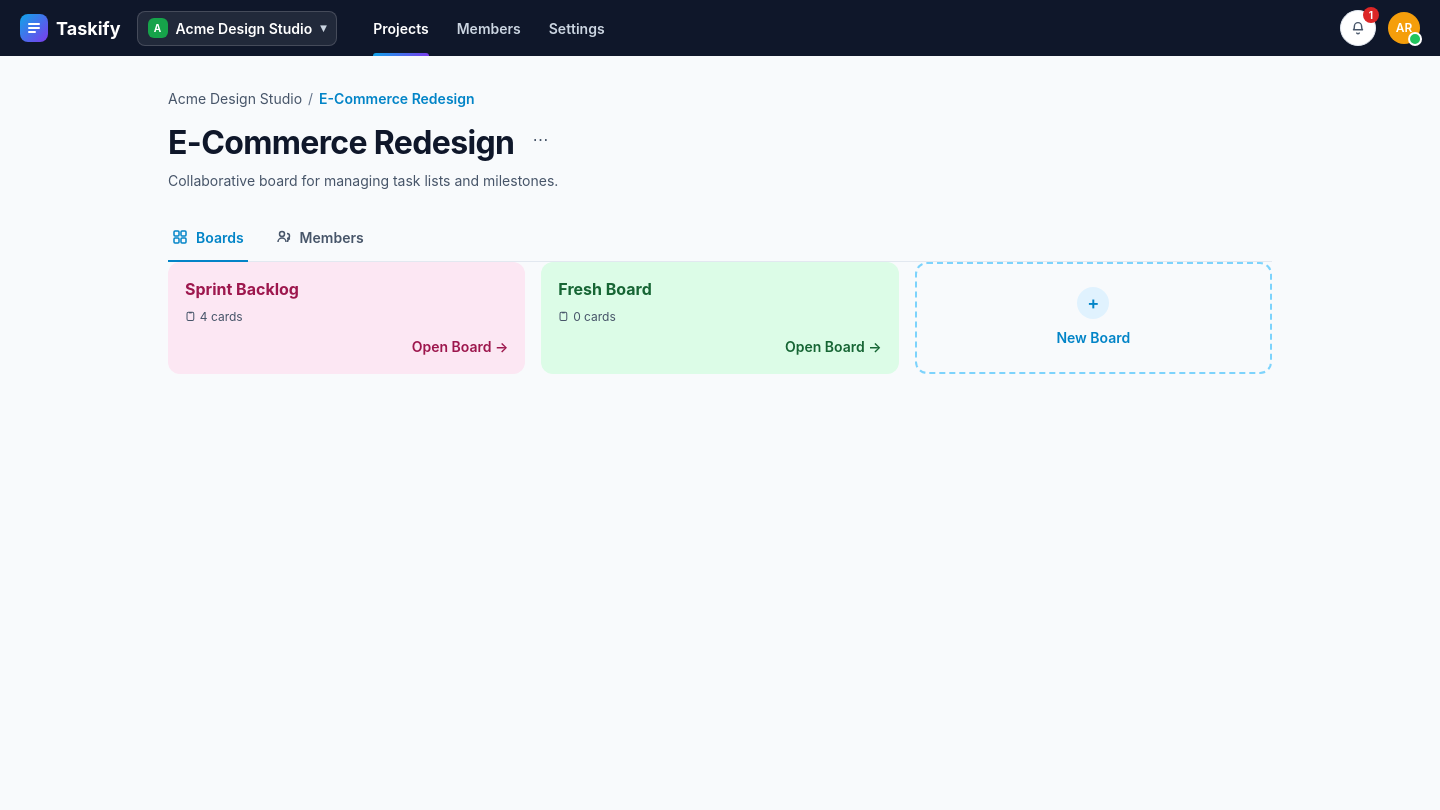
Scenario: project actions › deletes the project after confirmation
This screenshot has width=1440, height=810.
Step 1. Click the button named "Project actions" → coordinates (540, 139), box [526, 125, 554, 153]
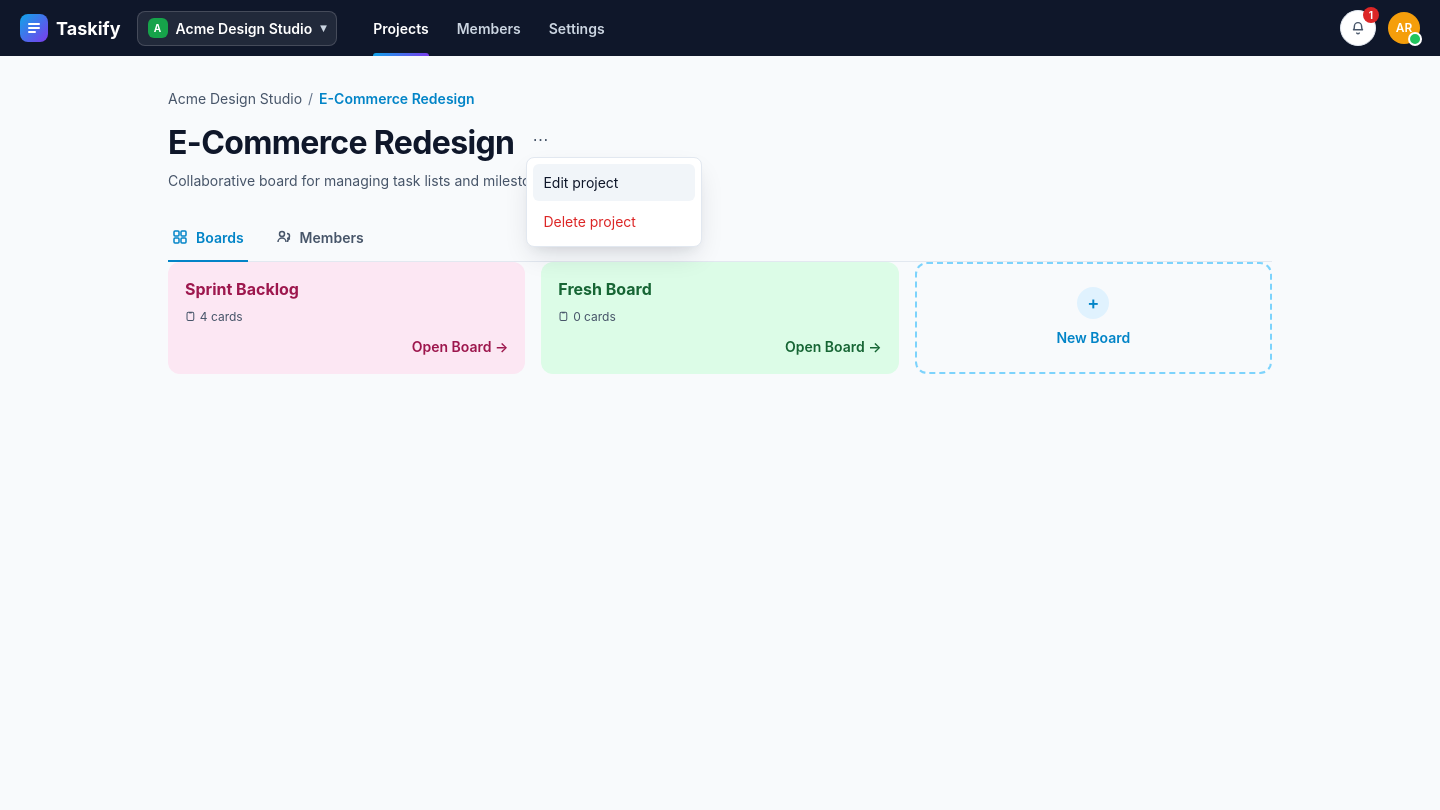
Step 2. Click the menu item "Delete project" → coordinates (614, 222), box [533, 203, 695, 240]
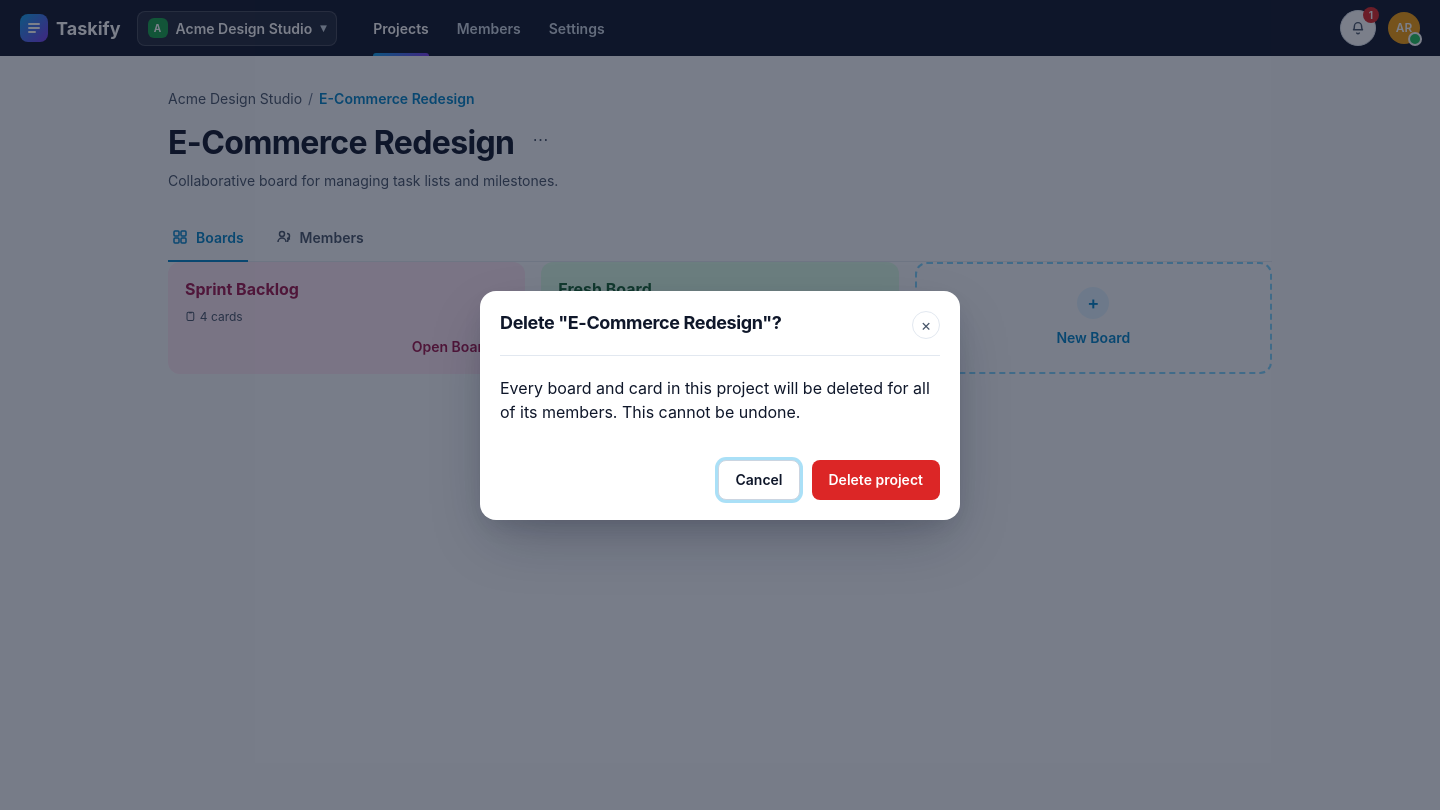
Step 3. Click the button "Delete project" → coordinates (876, 480), box [812, 460, 940, 500]
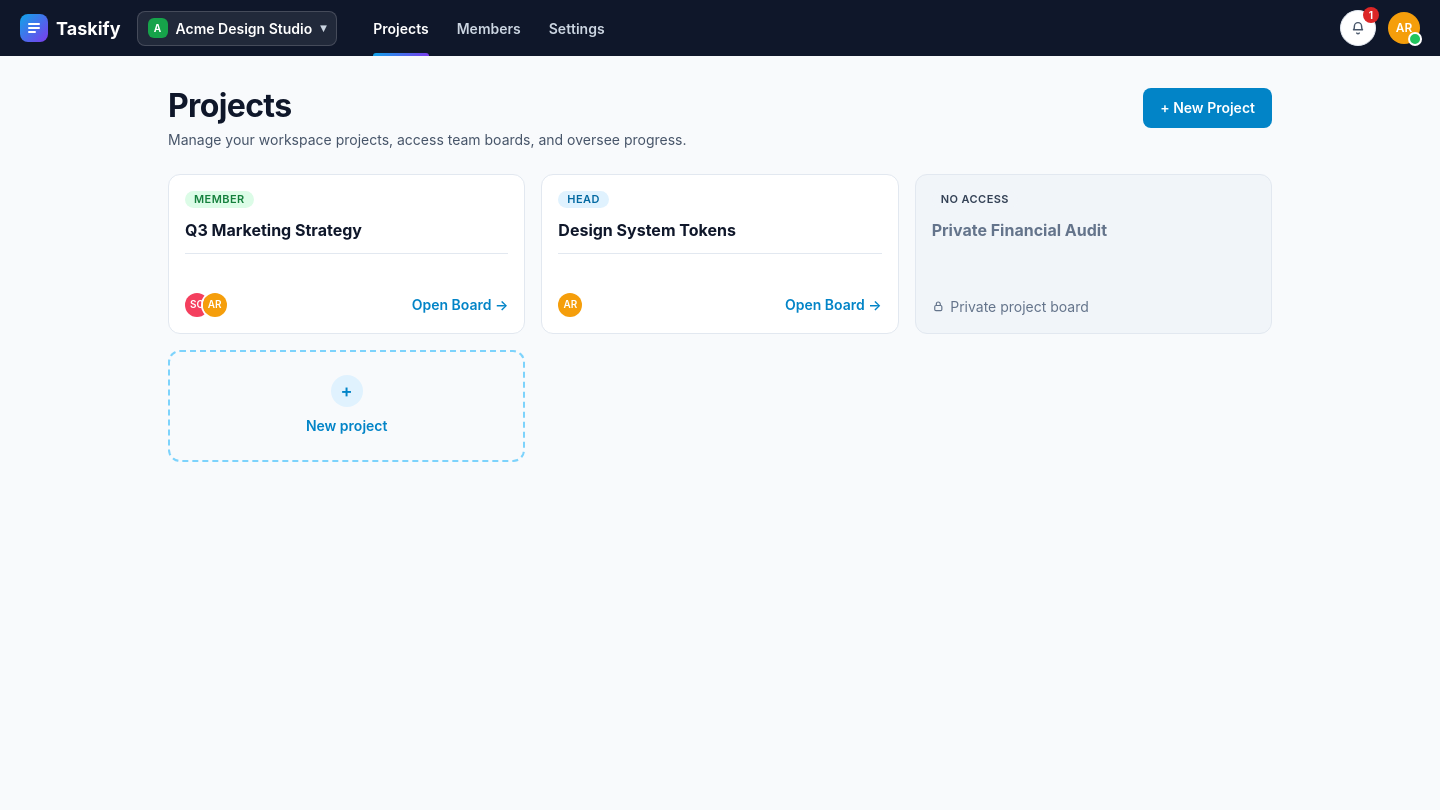
expect the heading "Projects" is shown: met, box [168, 86, 292, 125]
